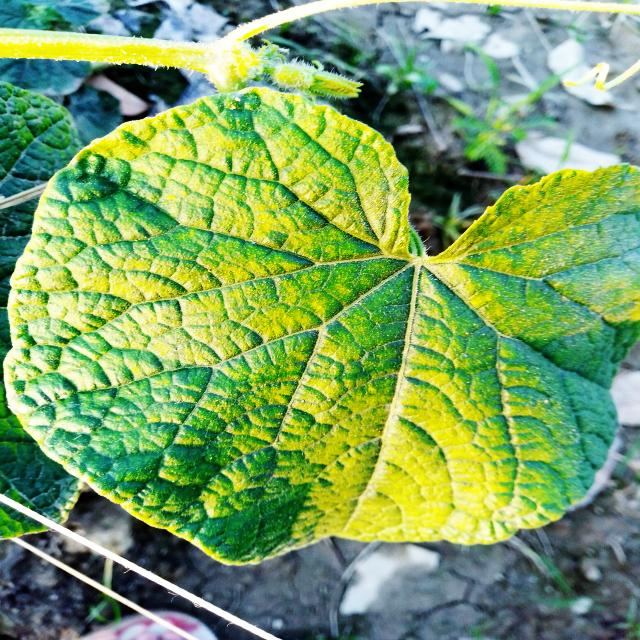Fresh-Leaf: (3, 89, 640, 572)
